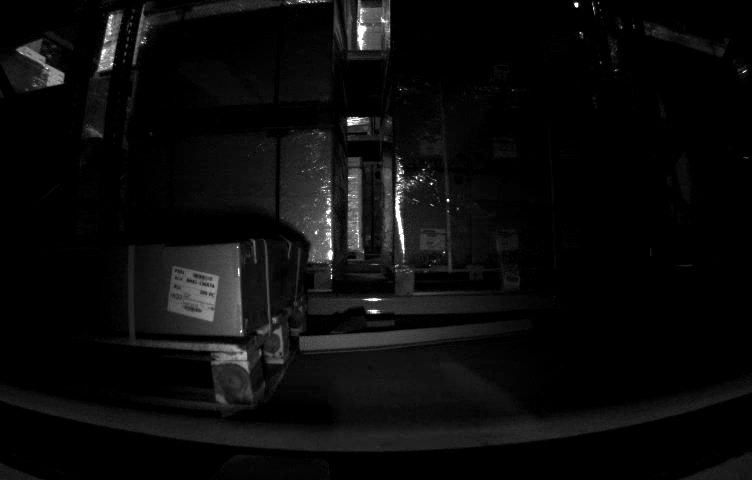True Barcode: (165, 266, 223, 321)
